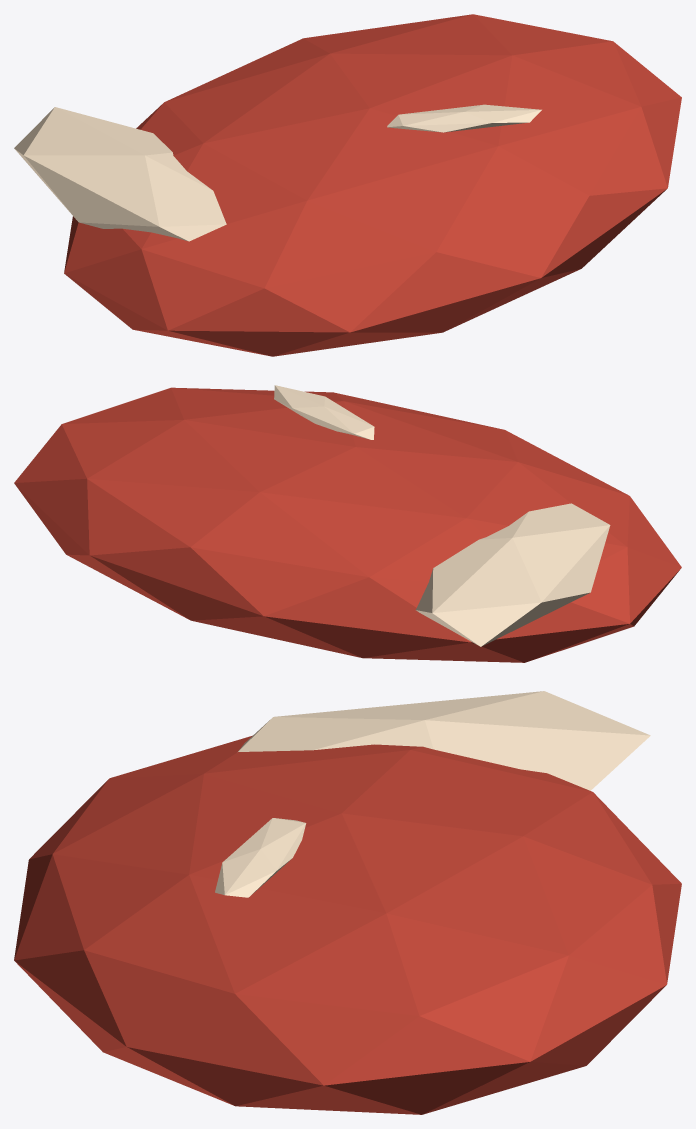
The model's file is FTF_Ingredient_RawBeef_ThickSlice.glb.
3 views of the same model, one above another, from view 1: azimuth 30°, elevation 25°; view 2: azimuth 150°, elevation 25°; view 3: azimuth 270°, elevation 25° (orthographic). The views are drawn at different scales.
Parts seen in each view (by area): view 1: FTF_Ingredient_RawBeef_ThickSlice_StaticMesh; view 2: FTF_Ingredient_RawBeef_ThickSlice_StaticMesh; view 3: FTF_Ingredient_RawBeef_ThickSlice_StaticMesh.
Part boxes in pixels (x1,y1,x2,y2): FTF_Ingredient_RawBeef_ThickSlice_StaticMesh: (14, 14, 681, 356); FTF_Ingredient_RawBeef_ThickSlice_StaticMesh: (14, 385, 681, 662); FTF_Ingredient_RawBeef_ThickSlice_StaticMesh: (14, 691, 681, 1114).
Bounding box in the file's own units: 0.9348 × 0.2468 × 0.6877.
